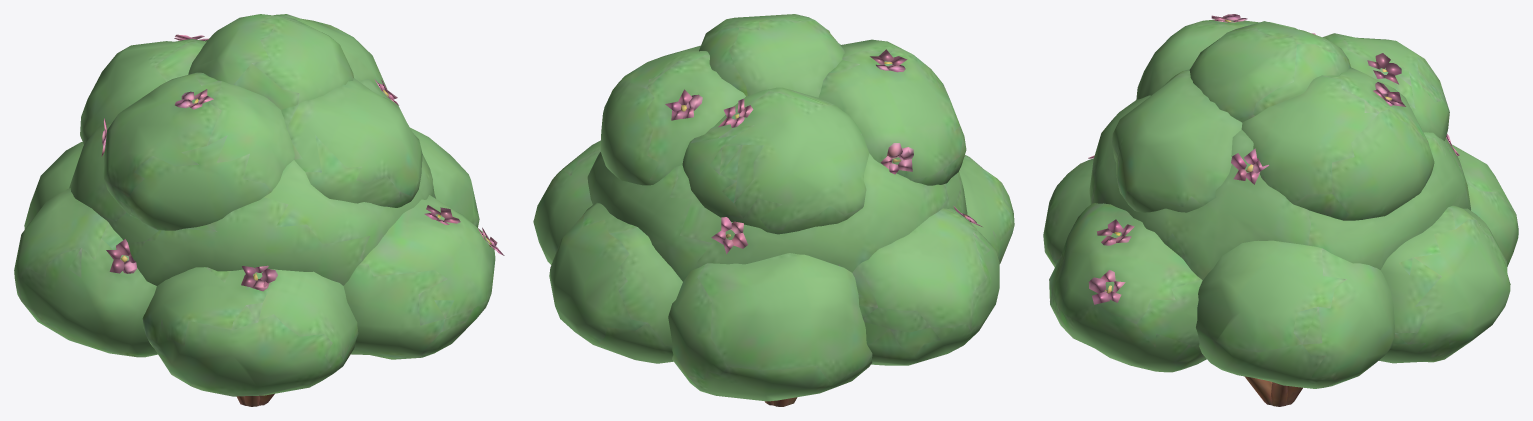
File: bush.glb
3 views of the same model, side by side, from view 1: azimuth 30°, elevation 25°; view 2: azimuth 150°, elevation 25°; view 3: azimuth 270°, elevation 25° (orthographic).
Parts seen in each view (by area): view 1: bush_body; view 2: bush_body; view 3: bush_body.
Part boxes in pixels (x1,y1,x2,y2): bush_body: (14,14,504,406); bush_body: (533,14,1014,406); bush_body: (1043,14,1518,406).
Size of the model in its own units: 1.33 by 1.09 by 1.26.
Materials: 1 (1 with a texture image).
